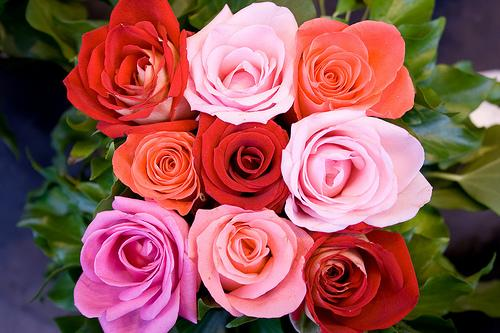Rose: (62, 4, 202, 131), (74, 195, 195, 325), (279, 3, 415, 117), (283, 113, 410, 227), (184, 199, 300, 320), (173, 2, 290, 117), (295, 218, 409, 327), (188, 107, 295, 212), (99, 127, 214, 205)
